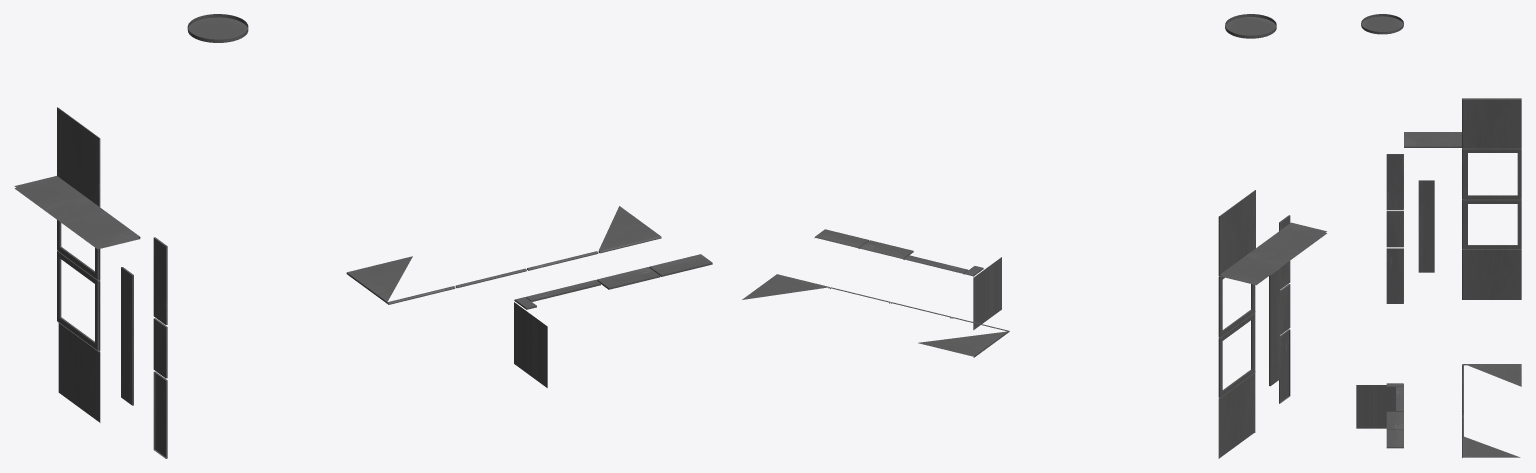
The model's file is nt_2020_house_02_cabinet_reflection_LOD0.obj.
The picture shows the model from 3 angles, left to right: view 1: azimuth 30°, elevation 25°; view 2: azimuth 150°, elevation 25°; view 3: azimuth 270°, elevation 25°; orthographic projection. The views are drawn at different scales.
Parts seen in each view (by area): view 1: nt_2020_formica_cream_cabinet; view 2: nt_2020_formica_cream_cabinet; view 3: nt_2020_formica_cream_cabinet.
Boxes of the visible parts, bbox=[...] form: nt_2020_formica_cream_cabinet: bbox=[14, 14, 712, 458]; nt_2020_formica_cream_cabinet: bbox=[742, 14, 1326, 458]; nt_2020_formica_cream_cabinet: bbox=[1356, 14, 1521, 457].
Size of the model in its own units: 935 by 626 by 314.
